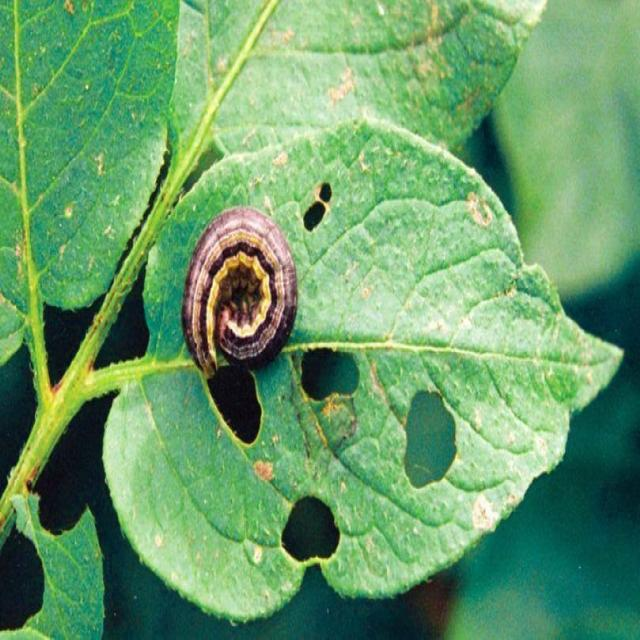army worm: (182, 205, 300, 374)
